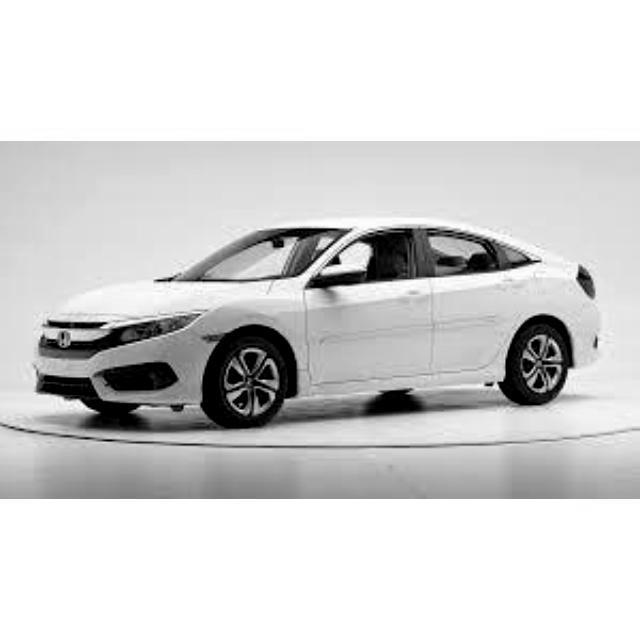fender-dent: (193, 293, 310, 359)
